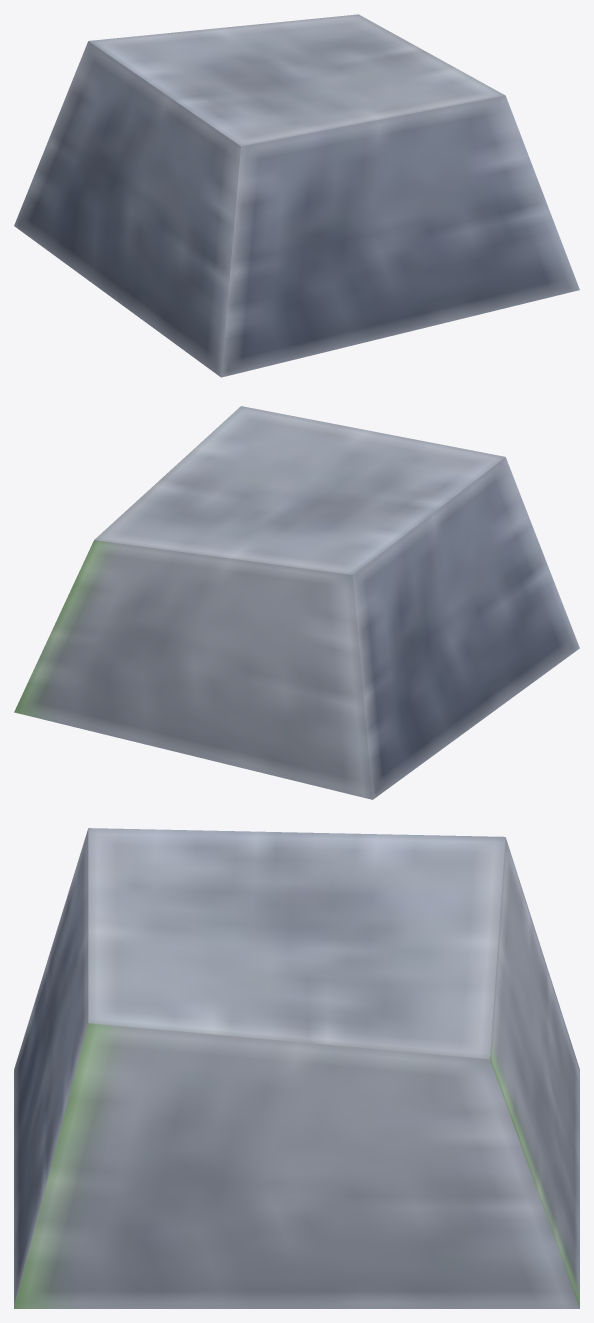
The model's file is stone_small.glb.
3 renders of one model, top to bottom at view 1: azimuth 30°, elevation 25°; view 2: azimuth 150°, elevation 25°; view 3: azimuth 270°, elevation 25°, orthographic. The views are drawn at different scales.
Visible parts, largest first — view 1: stone_small; view 2: stone_small; view 3: stone_small.
Boxes of the visible parts, x1,y1,x2,y2 form: stone_small: [14, 14, 579, 377]; stone_small: [14, 406, 579, 799]; stone_small: [14, 828, 579, 1308].
Size of the model in its own units: 1.5 by 0.7983 by 1.5.
Materials: 1 (1 with a texture image).
